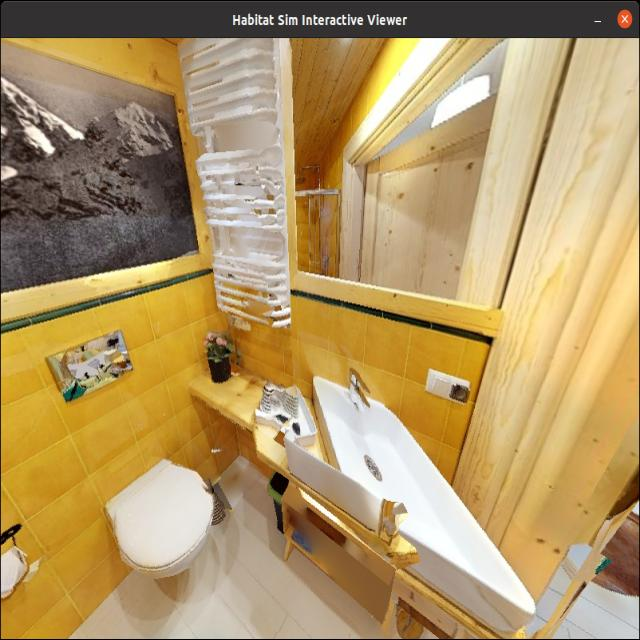sink: (315, 373, 482, 597)
toilet: (75, 446, 234, 606)
